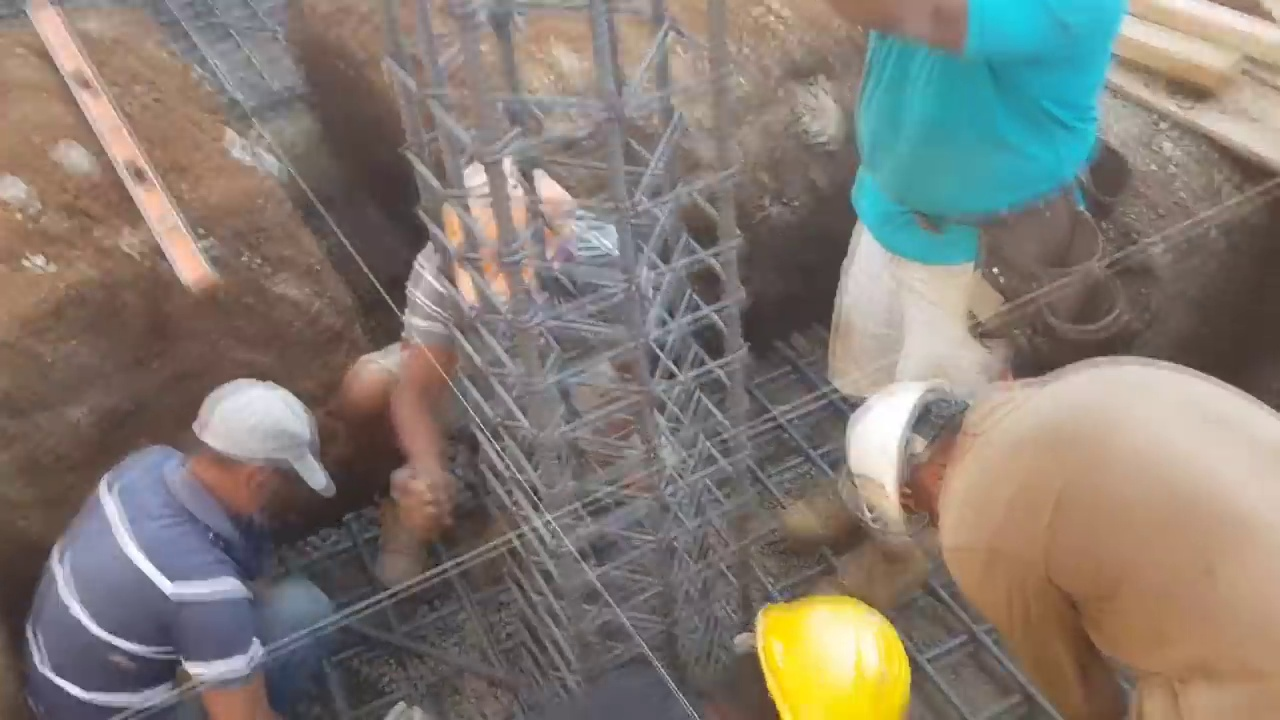helmet: (836, 371, 955, 550), (439, 162, 582, 306), (751, 593, 913, 720)
helmet-off: (171, 383, 328, 538)
helmet-on: (835, 371, 989, 560), (693, 589, 913, 720), (439, 164, 592, 333)
person: (835, 351, 1280, 720), (821, 0, 1141, 413), (325, 140, 630, 544), (10, 371, 353, 720)
